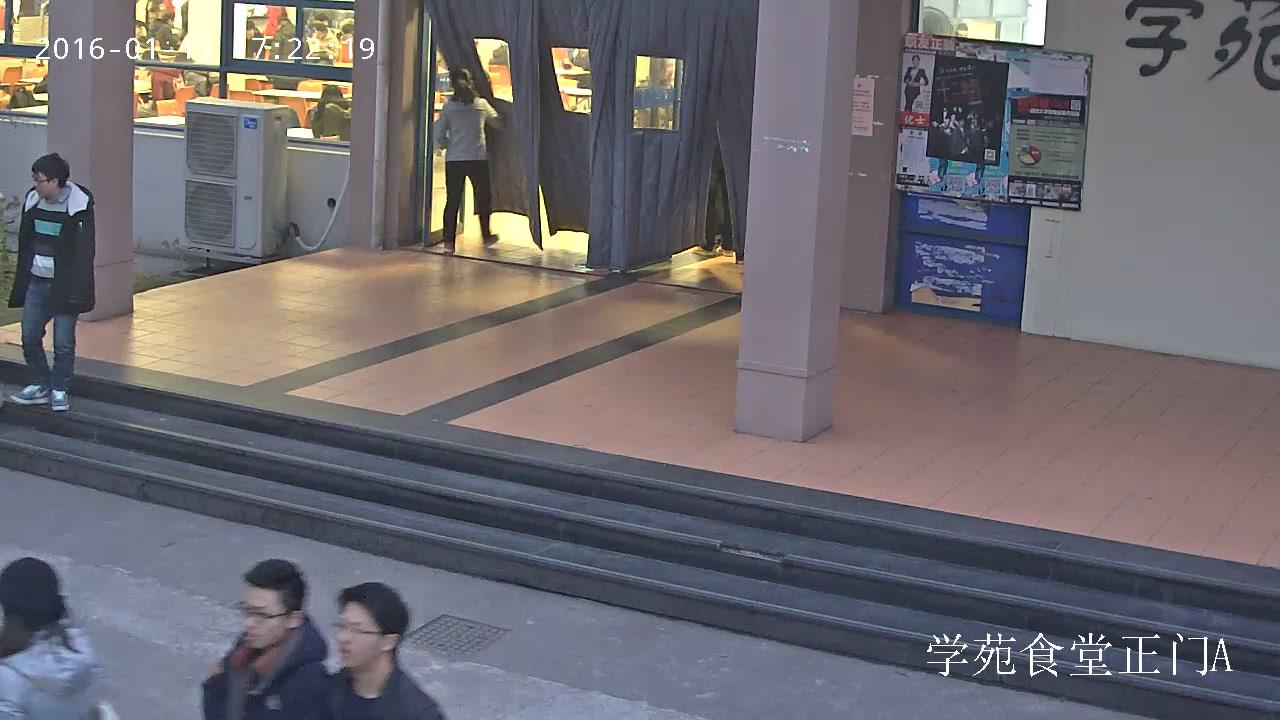person: (8, 152, 96, 411), (199, 557, 326, 718), (0, 557, 101, 720), (326, 582, 442, 720), (434, 68, 501, 254), (267, 16, 309, 90), (309, 84, 351, 138), (903, 54, 928, 112)
